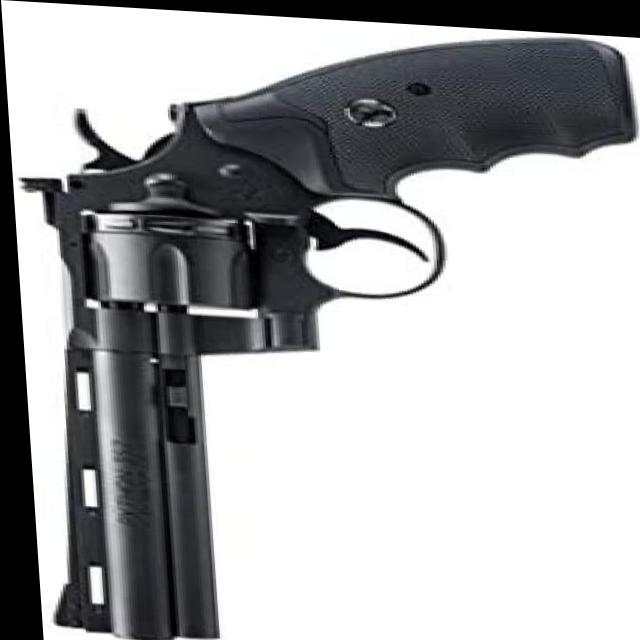handgun: (9, 0, 640, 640)
